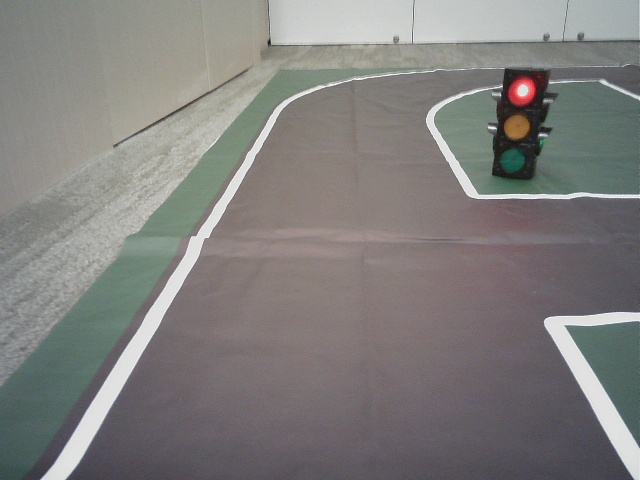red: (498, 71, 536, 174)
